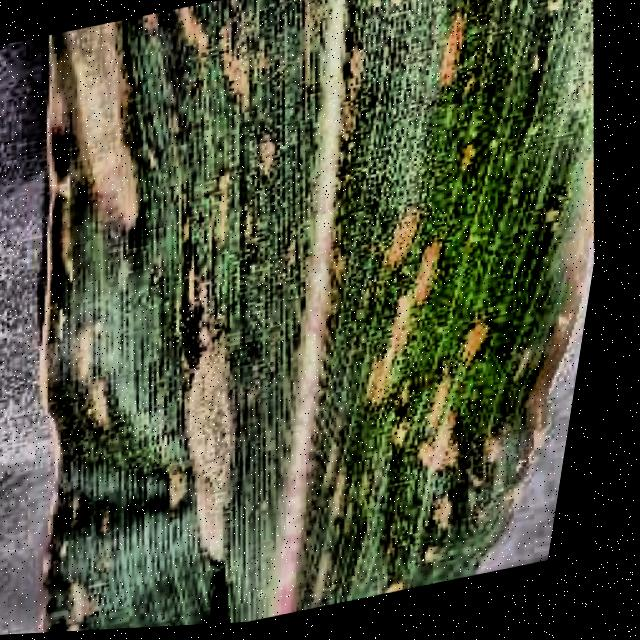blight: (0, 0, 640, 638)
